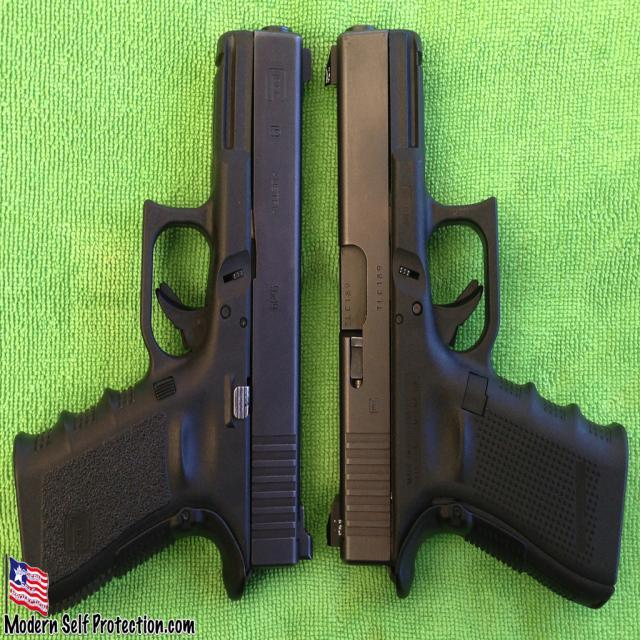Gun: (331, 28, 628, 607), (15, 29, 310, 611)
